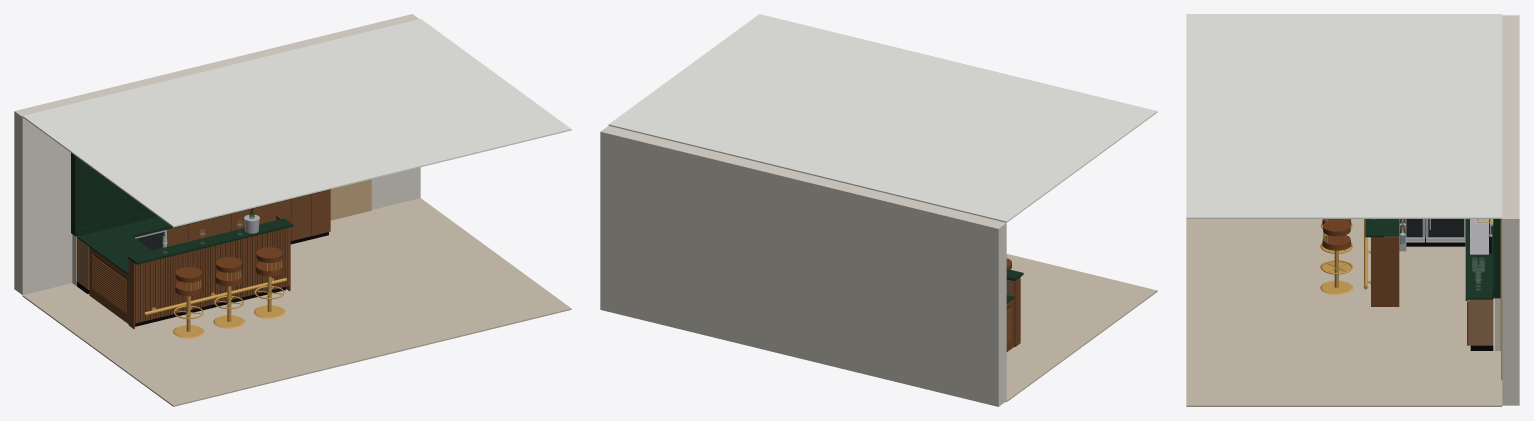
The model's file is bar_unit.obj.
3 views of the same model, side by side, from view 1: azimuth 30°, elevation 25°; view 2: azimuth 150°, elevation 25°; view 3: azimuth 270°, elevation 25° (orthographic). The views are drawn at different scales.
Visible parts, largest first — view 1: Ceiling, Floor, Back_Wall, Stone_Cladding_Slab_1, Bar_Top_Raised, Mural_Veneer_Panel, Return_Top, BackCtr_Shutter_8, BackCtr_Shutter_7, BackCtr_Top_Left, Bar_Front_Backing, BackCtr_Top_Upstand (+3 smaller); view 2: Back_Wall, Ceiling, Floor; view 3: Ceiling, Floor, Back_Wall, Bar_End_Panel_Right, BackCtr_Partition_5, Return_Carcass, BackCtr_Top_Right, Trough_Rim, Stone_Cladding_End_R, WineCooler_Glass_Door, BackCtr_Top_Front, Stool_3_Backrest_Pad (+7 smaller).
Boxes of the visible parts, x1,y1,x2,y2 form: Ceiling: [22, 18, 571, 227]; Floor: [22, 198, 571, 406]; Back_Wall: [14, 14, 420, 295]; Stone_Cladding_Slab_1: [76, 157, 150, 229]; Bar_Top_Raised: [128, 218, 293, 264]; Mural_Veneer_Panel: [330, 179, 371, 220]; Return_Top: [90, 235, 151, 274]; BackCtr_Shutter_8: [311, 190, 330, 236]; BackCtr_Shutter_7: [291, 194, 310, 240]; BackCtr_Top_Left: [79, 218, 168, 244]; Bar_Front_Backing: [135, 232, 285, 323]; BackCtr_Top_Upstand: [76, 211, 157, 236]; Back_Wall: [600, 125, 1006, 406]; Ceiling: [608, 14, 1157, 222]; Floor: [1006, 254, 1157, 402]; Ceiling: [1186, 14, 1502, 218]; Floor: [1186, 219, 1502, 406]; Back_Wall: [1502, 15, 1519, 405]; Bar_End_Panel_Right: [1371, 236, 1399, 306]; BackCtr_Partition_5: [1468, 299, 1493, 345]; Return_Carcass: [1406, 219, 1463, 242]; BackCtr_Top_Right: [1470, 254, 1487, 299]; Trough_Rim: [1470, 219, 1488, 254]; Stone_Cladding_End_R: [1493, 219, 1500, 298]; WineCooler_Glass_Door: [1428, 219, 1463, 236]; BackCtr_Top_Front: [1465, 219, 1470, 299]; Stool_3_Backrest_Pad: [1323, 220, 1350, 236].
Bounding box in the file's own units: 6400 × 2775 × 4430.
